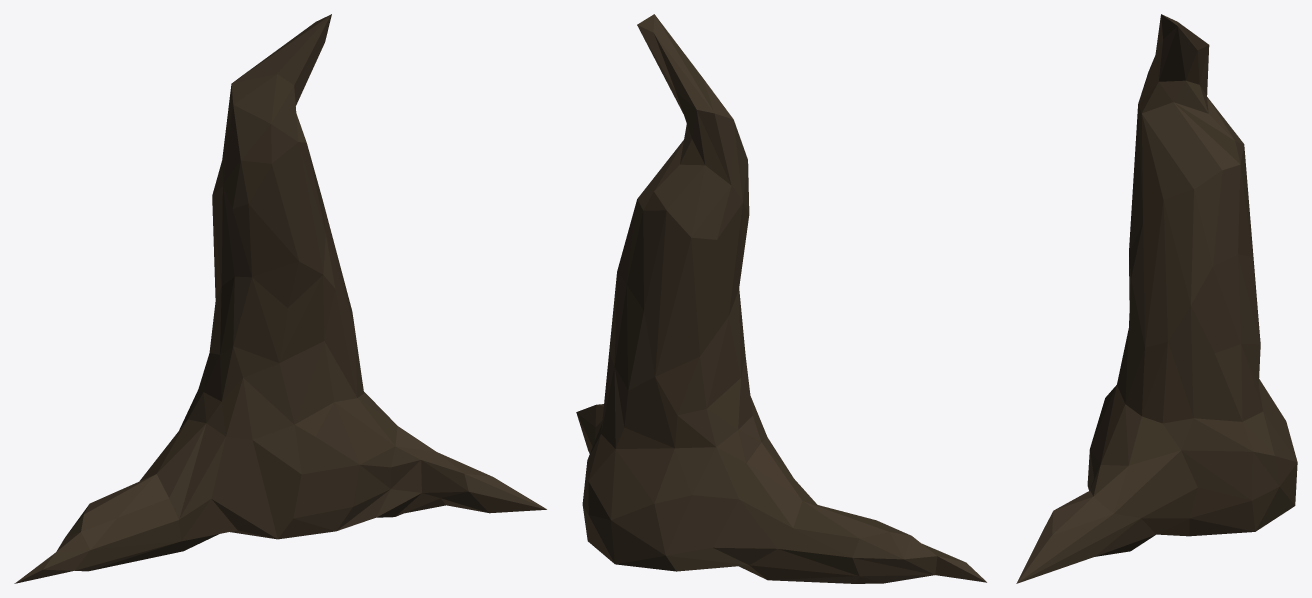
File: SM_tree_d_06.fbx
3 renders of one model, left to right at view 1: azimuth 30°, elevation 25°; view 2: azimuth 150°, elevation 25°; view 3: azimuth 270°, elevation 25°, orthographic. The views are drawn at different scales.
Parts seen in each view (by area): view 1: Object182; view 2: Object182; view 3: Object182.
Part boxes in pixels (bbox=[...]): Object182: bbox=[14, 14, 546, 583]; Object182: bbox=[576, 14, 986, 583]; Object182: bbox=[1016, 14, 1297, 583].
Size of the model in its own units: 216 by 108 by 225.
